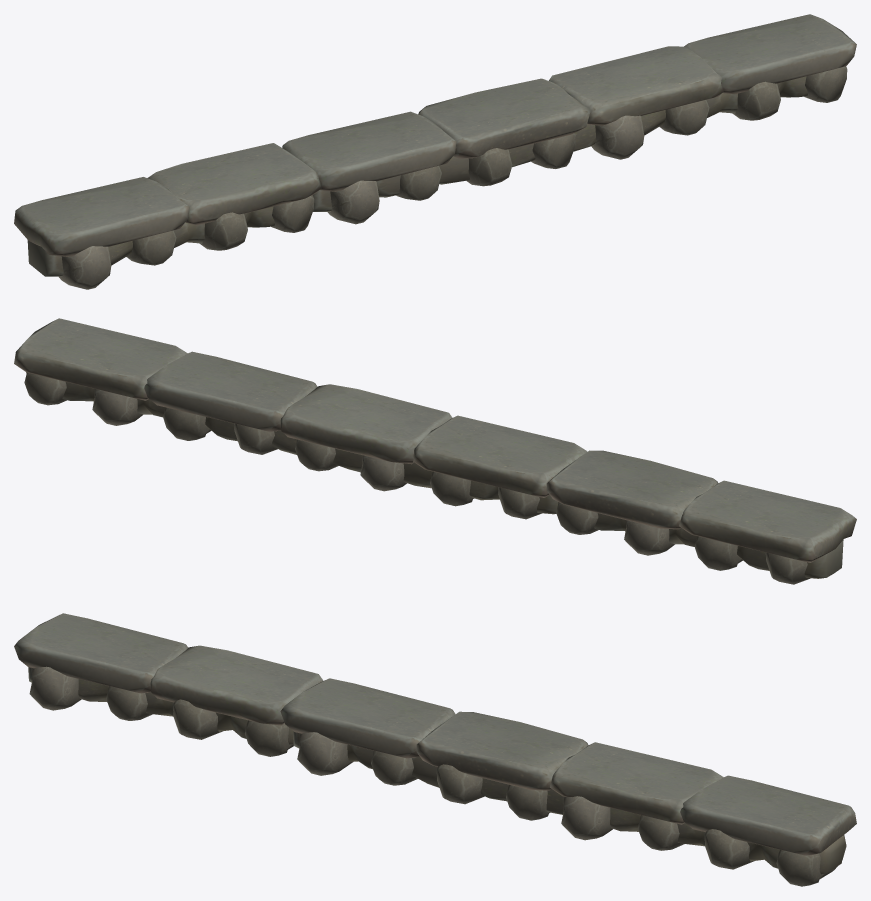
File: SM_FW01_Ruins_Int_Trim_A_6m_01.fbx
The picture shows the model from 3 angles, top to bottom: view 1: azimuth 30°, elevation 25°; view 2: azimuth 150°, elevation 25°; view 3: azimuth 330°, elevation 25°; orthographic projection.
Parts seen in each view (by area): view 1: SM_FW01_Ruins_Int_Trim_A_6m_01_LOD0; view 2: SM_FW01_Ruins_Int_Trim_A_6m_01_LOD0; view 3: SM_FW01_Ruins_Int_Trim_A_6m_01_LOD0.
Part boxes in pixels (<box>): SM_FW01_Ruins_Int_Trim_A_6m_01_LOD0: <box>14,14,856,289</box>; SM_FW01_Ruins_Int_Trim_A_6m_01_LOD0: <box>14,318,856,584</box>; SM_FW01_Ruins_Int_Trim_A_6m_01_LOD0: <box>14,613,856,886</box>.
Size of what is drawn, in the model's own units: 6.07 by 0.4288 by 0.6569.
